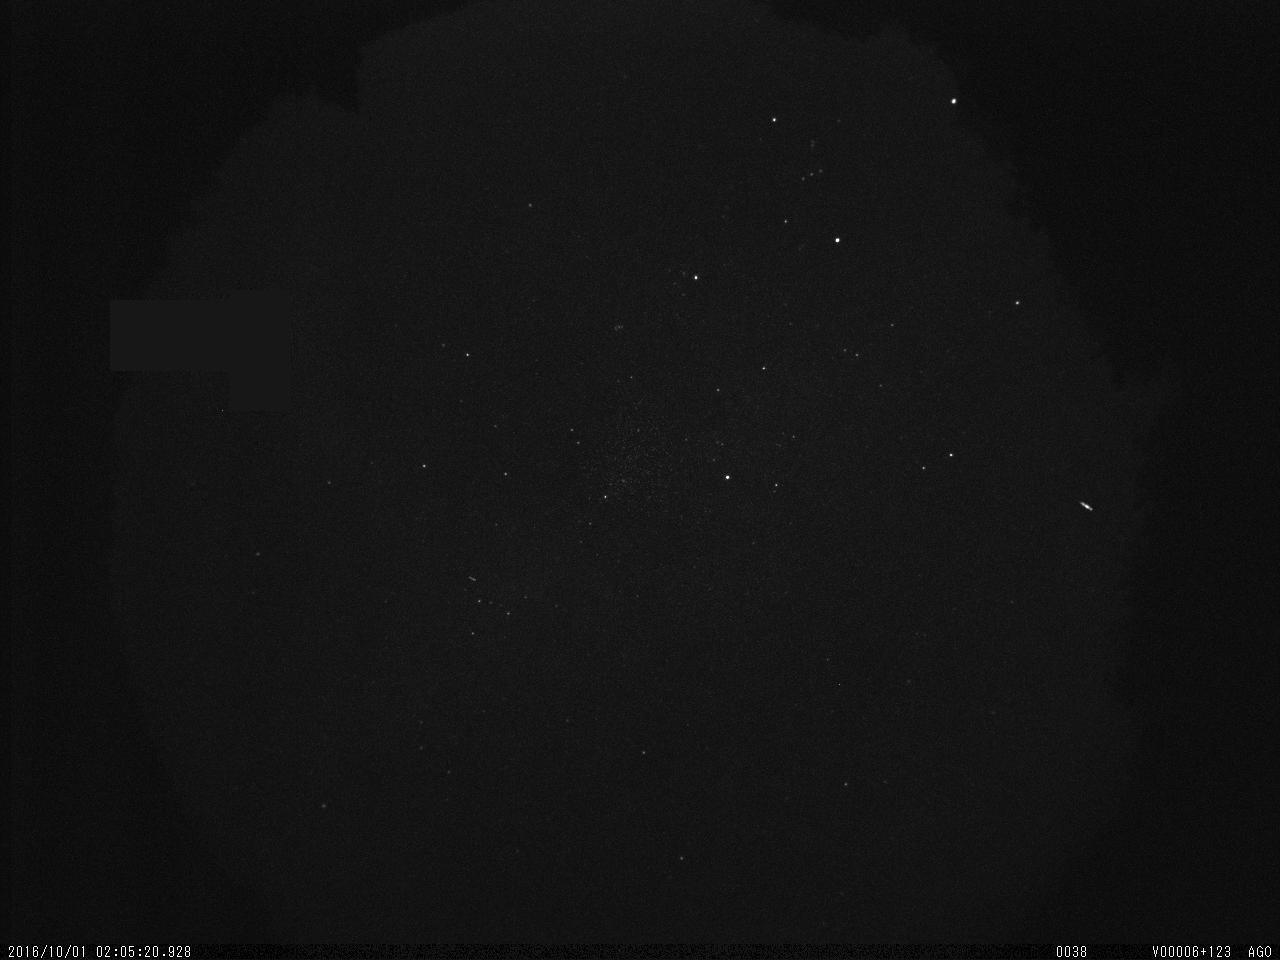meteor: (1068, 490, 1101, 518)
